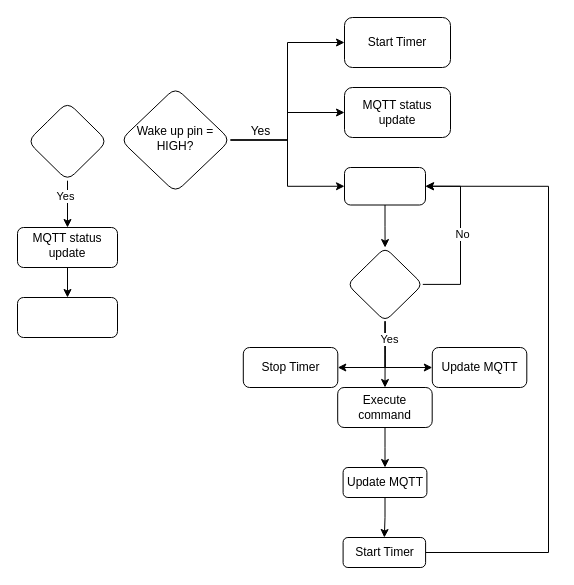
The diagram is 574 pixels wide and 585 high, and some of its shapes have lost their labels. The shapes that lost their labels are listed below. From the top down, each one's box as (x1, y1, x2, y2) in pixels, then its label:
(26, 101, 108, 181): Timer Timeout?
(344, 166, 426, 205): Listen
(346, 246, 423, 321): Command detected ?
(16, 296, 118, 338): ESP enter sleep
